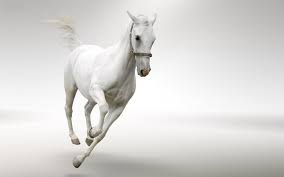Horse: (54, 7, 174, 170)
